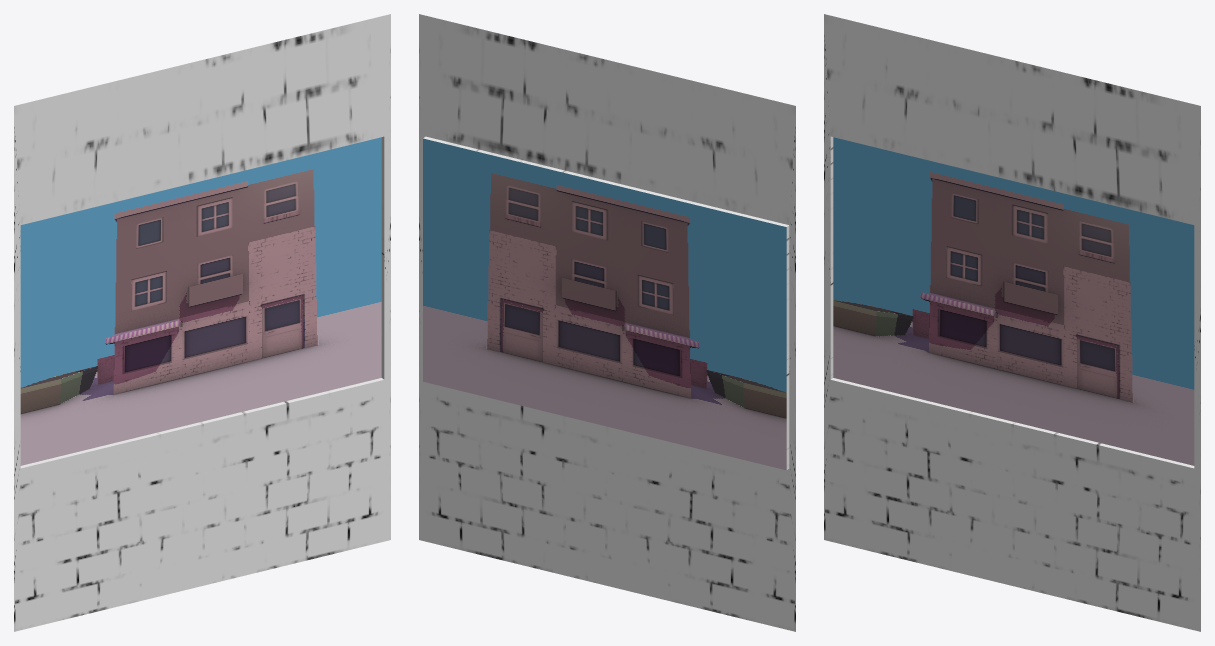
The model's file is Window5.fbx.
3 renders of one model, left to right at view 1: azimuth 30°, elevation 25°; view 2: azimuth 150°, elevation 25°; view 3: azimuth 330°, elevation 25°, orthographic.
Visible parts, largest first — view 1: Plane.005; view 2: Plane.005; view 3: Plane.005.
Boxes of the visible parts, x1,y1,x2,y2 form: Plane.005: [14, 14, 390, 631]; Plane.005: [419, 14, 795, 631]; Plane.005: [824, 14, 1200, 631].
Bounding box in the file's own units: 150 × 200 × 1.81.
